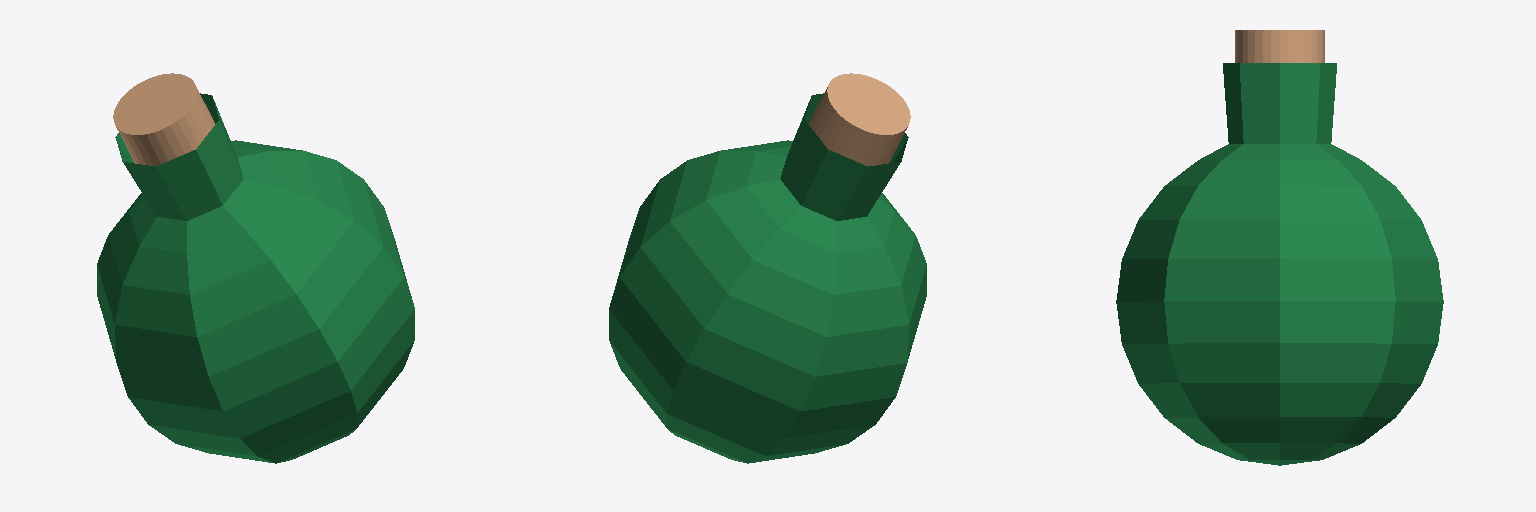
The picture shows the model from 3 angles: view 1: azimuth 30°, elevation 25°; view 2: azimuth 150°, elevation 25°; view 3: azimuth 270°, elevation 25°; orthographic projection.
Visible parts, largest first — view 1: 円柱; view 2: 円柱; view 3: 円柱.
Boxes of the visible parts, x1=… form: 円柱: x1=97, y1=73, x2=414, y2=463; 円柱: x1=609, y1=73, x2=926, y2=463; 円柱: x1=1116, y1=30, x2=1443, y2=465.
Size of the model in its own units: 1.54 by 2.02 by 1.55.
Materials: 1 (1 with a texture image).